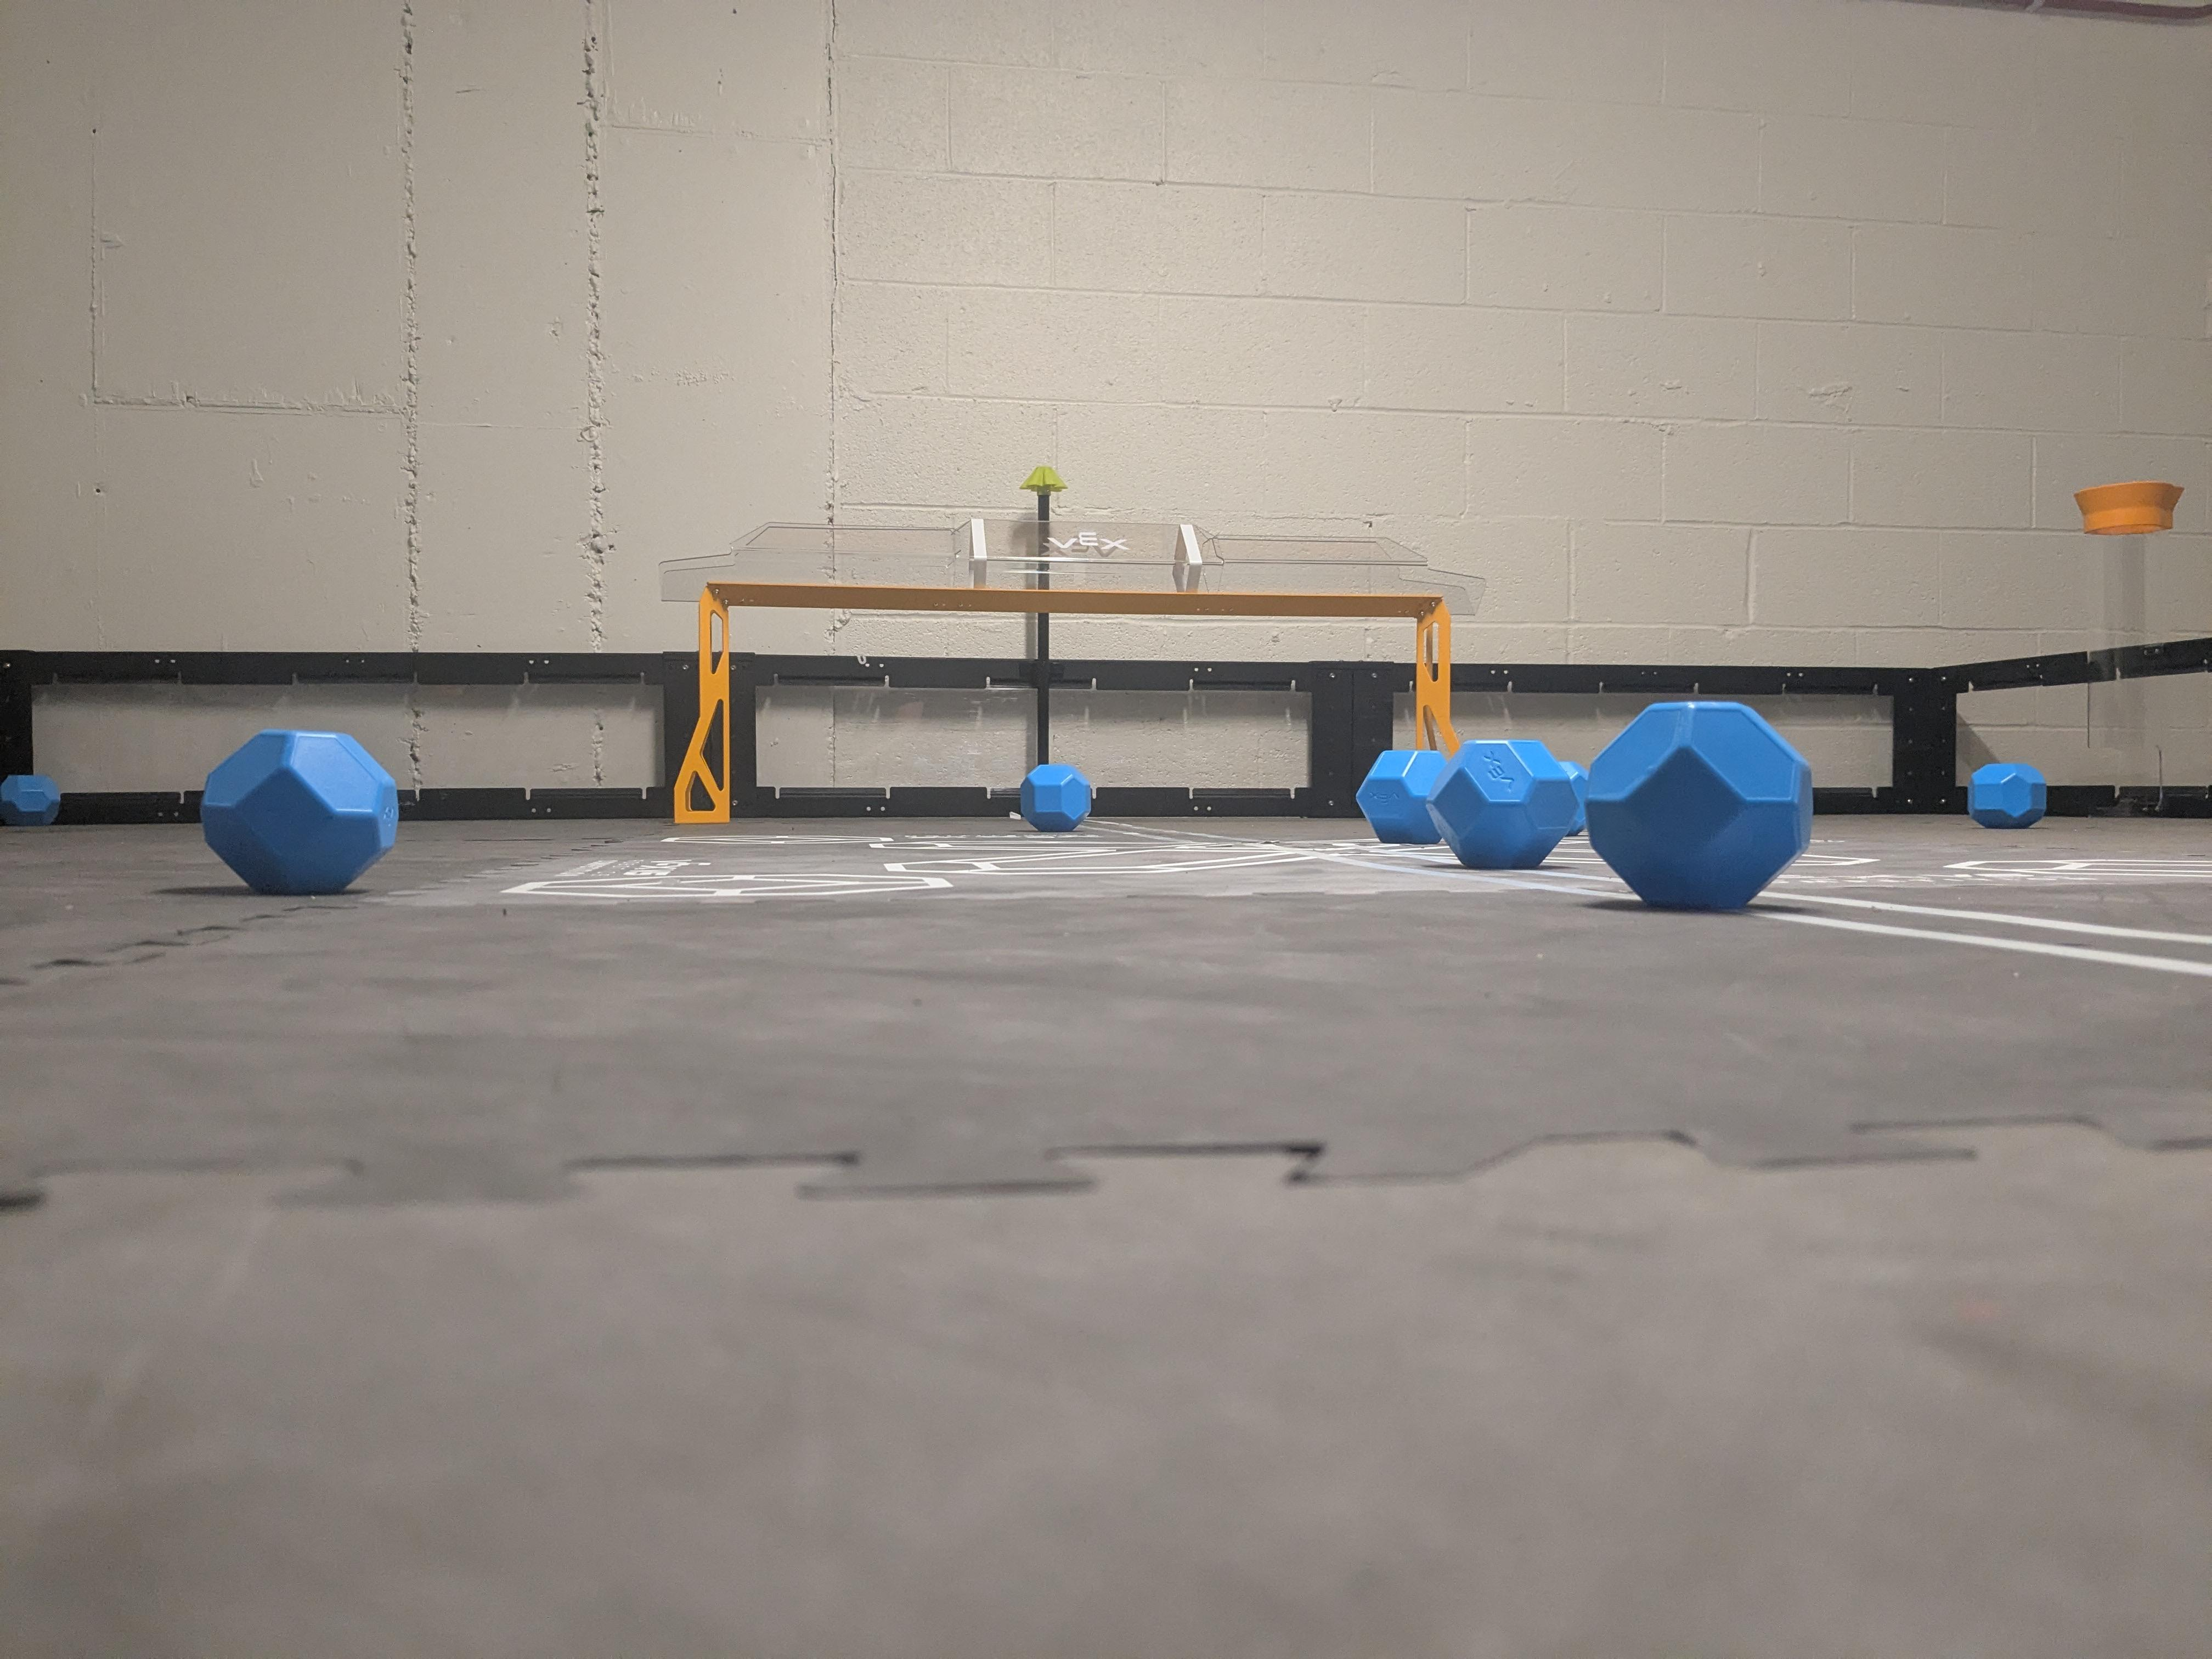Vex-Pieces-BLUE: (1390, 699, 1810, 910), (200, 730, 397, 889), (1966, 762, 2041, 826), (1019, 765, 1089, 826)
